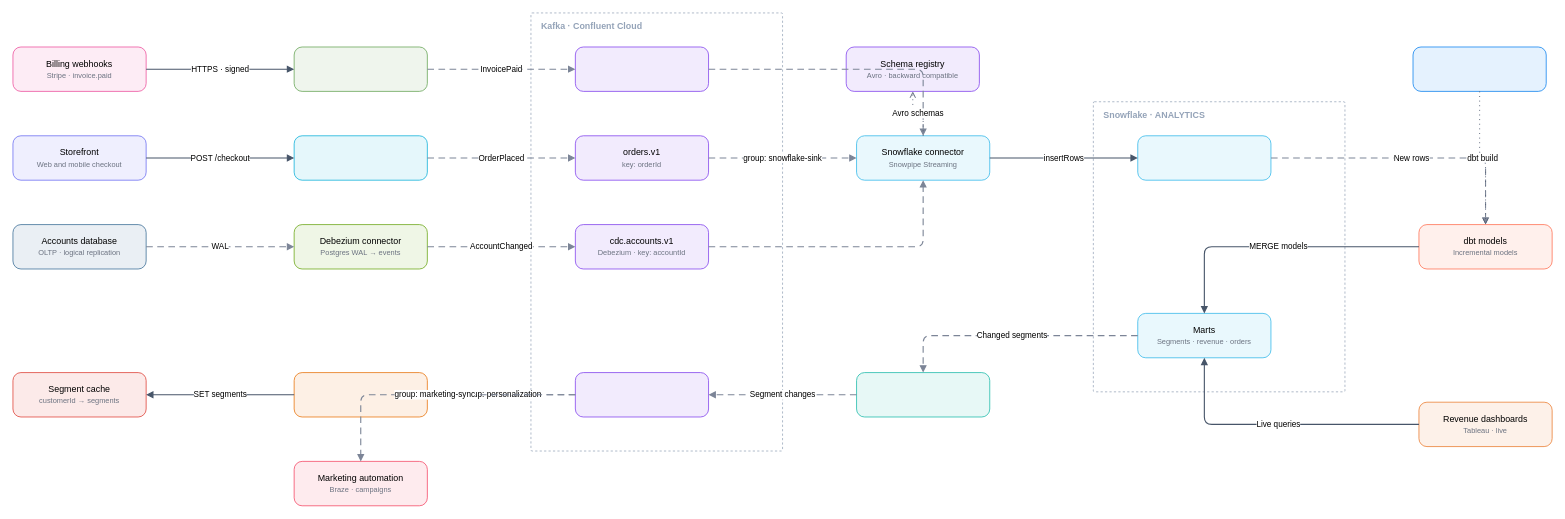
Some shapes in this 1565 by 519 pixel diagram are drawn without their labels. The centre of each missing label's shape, as x and y in pixels:
"Airflow dbt build · every 15 min" belongs at pixel 1479 68.
"billing.invoices.v1 key: customerId" belongs at pixel 642 68.
"Checkout service Commits order · publishes" belongs at pixel 360 157.
"customer-segments.v1 key: customerId" belongs at pixel 642 394.
"Personalization service Next-best offer" belongs at pixel 360 394.
"Raw tables RAW.KAFKA_* · VARIANT" belongs at pixel 1204 157.
"Reverse ETL Hightouch · diffs only" belongs at pixel 923 394.
"Webhook receiver Verify signature · ack 200" belongs at pixel 360 68.
